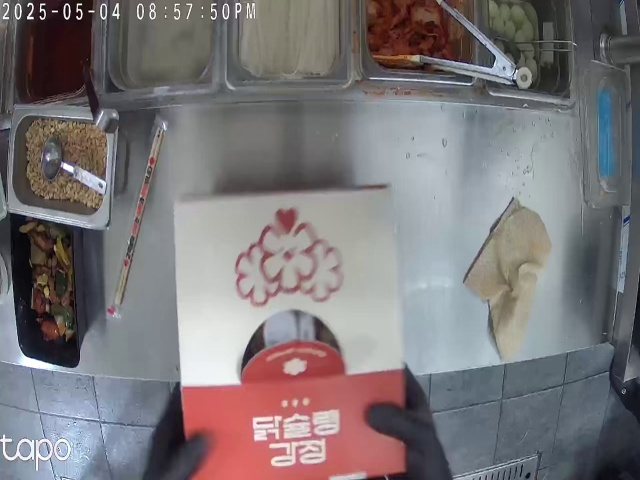closed delivery box: (168, 196, 406, 470)
hand: (371, 356, 461, 473), (134, 381, 214, 480)
